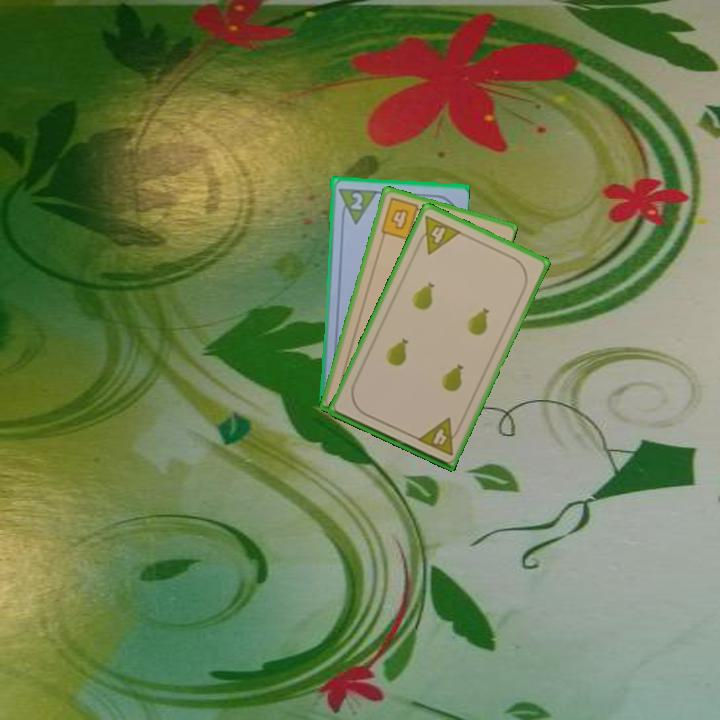2p: (334, 184, 378, 226)
4b: (377, 194, 427, 243)
4p: (412, 212, 464, 257), (413, 414, 464, 458)
